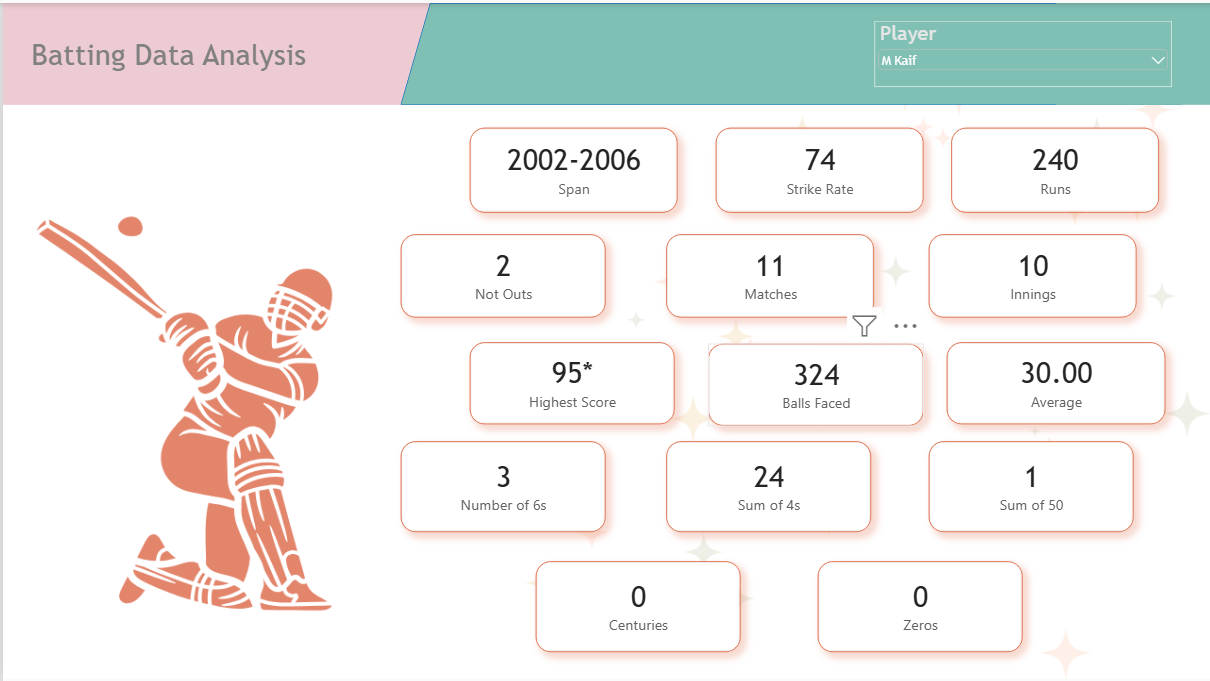

This screenshot's page, from the dashboard's own definition file:
{"tool":"powerbi","page":{"name":"Batting","canvas":[1920,1080],"ordinal":0},"visuals":[{"type":"shape","box":[0,0,1011.6,162.2],"z":0},{"type":"shape","box":[632.3,0,1288.4,162.2],"z":1000},{"type":"shape","box":[1674.9,0,245.7,162.2],"z":2000},{"type":"slicer","fields":{"Values":["Batting.Player"]},"box":[1386.2,28.6,472.4,105],"z":3000},{"type":"cardVisual","fields":{"Data":["Min(Batting.Span)"]},"box":[742,198,331.6,136],"z":4000},{"type":"cardVisual","fields":{"Data":["Sum(Batting.SR)"]},"box":[1133.3,198,331.6,136],"z":5000},{"type":"cardVisual","fields":{"Data":["Sum(Batting.Runs)"]},"box":[1507.9,198,331.6,136],"z":6000},{"type":"cardVisual","fields":{"Data":["Sum(Batting.NO)"]},"box":[632.3,367.4,326.9,133.6],"z":7000},{"type":"cardVisual","fields":{"Data":["Sum(Batting.Mat)"]},"box":[1054.6,367.4,331.6,133.6],"z":8000},{"type":"cardVisual","fields":{"Data":["Sum(Batting.Inns)"]},"box":[1472.1,367.4,331.6,133.6],"z":9000},{"type":"cardVisual","fields":{"Data":["Min(Batting.HS)"]},"box":[742,539.2,326.9,131.2],"z":10000},{"type":"cardVisual","fields":{"Data":["Sum(Batting.BF)"]},"box":[1121.4,541.6,343.6,131.2],"z":11000},{"type":"cardVisual","fields":{"Data":["Sum(Batting.Ave)"]},"box":[1500.7,539.2,348.3,131.2],"z":12000},{"type":"cardVisual","fields":{"Data":["Sum(Batting.6s)"]},"box":[632.3,696.7,326.9,145.5],"z":13000},{"type":"cardVisual","fields":{"Data":["Sum(Batting.4s)"]},"box":[1054.6,696.7,326.9,145.5],"z":14000},{"type":"cardVisual","fields":{"Data":["Sum(Batting.50)"]},"box":[1472.1,696.7,326.9,145.5],"z":15000},{"type":"cardVisual","fields":{"Data":["Sum(Batting.100)"]},"box":[847,887.6,326.9,145.5],"z":16000},{"type":"cardVisual","fields":{"Data":["Sum(Batting.0)"]},"box":[1295.6,887.6,326.9,145.5],"z":17000}]}

Visuals, with their boxes in screenshot pixels (x1, y1, x2, y2), scaled from the page's 1920x1080 canvas onto the 1210x681 screenshot:
shape: 0 0 638 102
shape: 398 0 1209 102
shape: 1056 0 1209 102
slicer - Batting.Player: 874 18 1171 84
cardVisual - Min(Batting.Span): 468 125 677 211
cardVisual - Sum(Batting.SR): 714 125 923 211
cardVisual - Sum(Batting.Runs): 950 125 1159 211
cardVisual - Sum(Batting.NO): 398 232 604 316
cardVisual - Sum(Batting.Mat): 665 232 874 316
cardVisual - Sum(Batting.Inns): 928 232 1137 316
cardVisual - Min(Batting.HS): 468 340 674 423
cardVisual - Sum(Batting.BF): 707 342 923 424
cardVisual - Sum(Batting.Ave): 946 340 1165 423
cardVisual - Sum(Batting.6s): 398 439 604 531
cardVisual - Sum(Batting.4s): 665 439 871 531
cardVisual - Sum(Batting.50): 928 439 1134 531
cardVisual - Sum(Batting.100): 534 560 740 651
cardVisual - Sum(Batting.0): 816 560 1023 651
